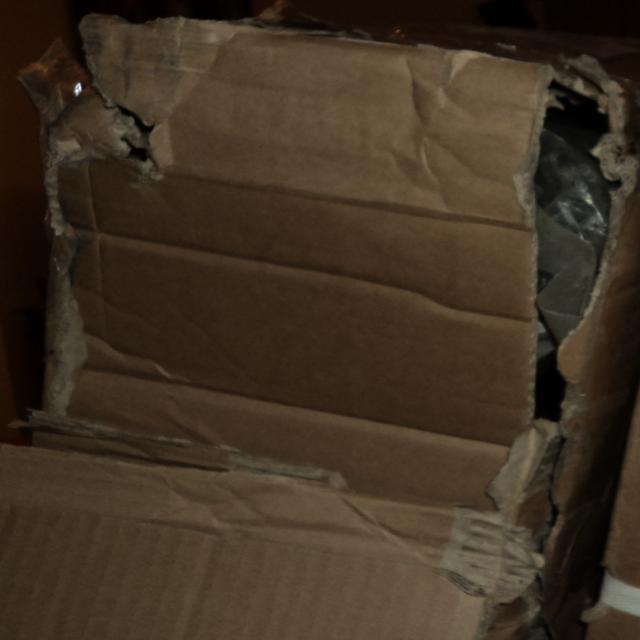hole: (483, 73, 639, 441), (37, 34, 183, 177)
